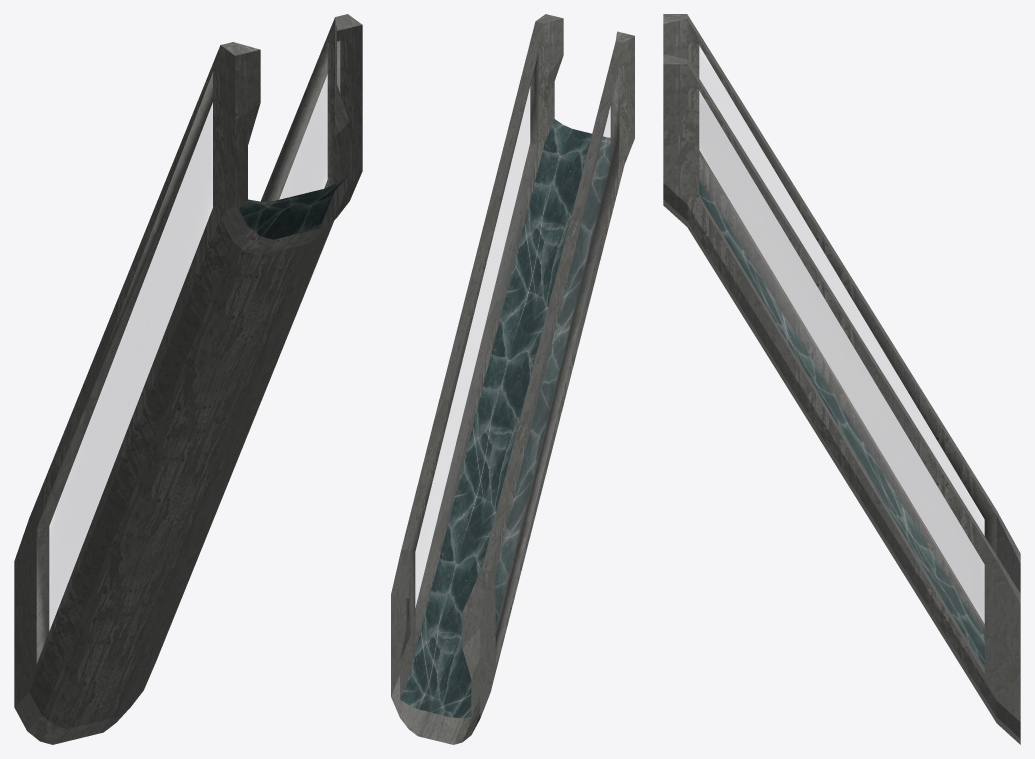
File: Dragonfly_IceSlide_Straight_Glass_Steep.fbx
The picture shows the model from 3 angles, left to right: view 1: azimuth 30°, elevation 25°; view 2: azimuth 150°, elevation 25°; view 3: azimuth 270°, elevation 25°; orthographic projection. The views are drawn at different scales.
Parts seen in each view (by area): view 1: Straight Slide (Glass - Steep); view 2: Straight Slide (Glass - Steep); view 3: Straight Slide (Glass - Steep).
Boxes of the visible parts, x1=… form: Straight Slide (Glass - Steep): x1=14, y1=14, x2=362, y2=744; Straight Slide (Glass - Steep): x1=391, y1=14, x2=634, y2=744; Straight Slide (Glass - Steep): x1=663, y1=14, x2=1020, y2=744.
Size of the model in its own units: 10 by 64.5 by 30.
